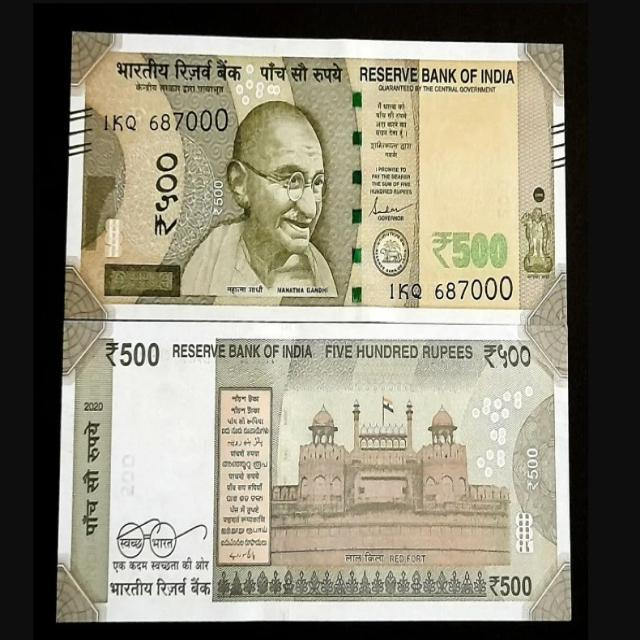500IndianRupees: (65, 42, 562, 319)
